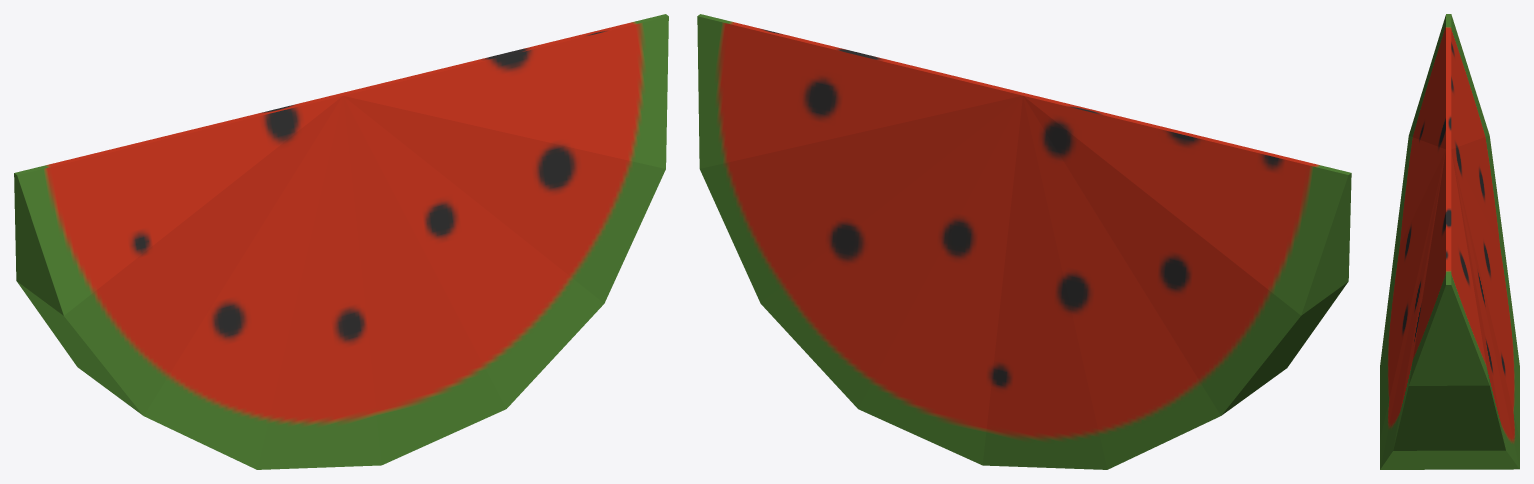
Rendered from Watermelon2.fbx.
The picture shows the model from 3 angles, left to right: view 1: azimuth 30°, elevation 25°; view 2: azimuth 150°, elevation 25°; view 3: azimuth 270°, elevation 25°; orthographic projection. The views are drawn at different scales.
Parts seen in each view (by area): view 1: Cylinder; view 2: Cylinder; view 3: Cylinder.
Boxes of the visible parts, x1,y1,x2,y2 form: Cylinder: (14, 14, 668, 469); Cylinder: (697, 14, 1351, 469); Cylinder: (1380, 14, 1519, 469).
Bounding box in the file's own units: 200 × 100 × 43.67.
1 material, 1 textured.
